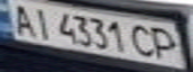1: (106, 18, 130, 54)
3: (69, 12, 93, 47), (87, 16, 109, 51)
4: (48, 10, 78, 44)
A: (3, 1, 39, 36)
C: (127, 22, 160, 60)
I: (27, 6, 57, 39)
P: (145, 25, 184, 61)
